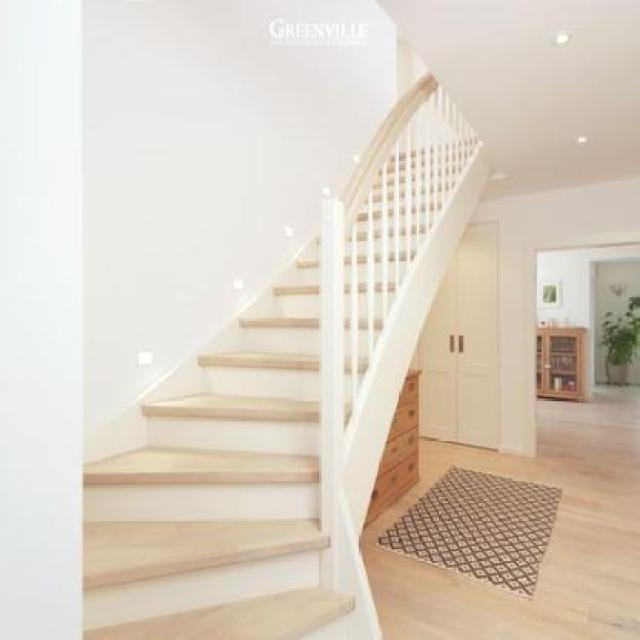stair: (46, 120, 517, 636)
